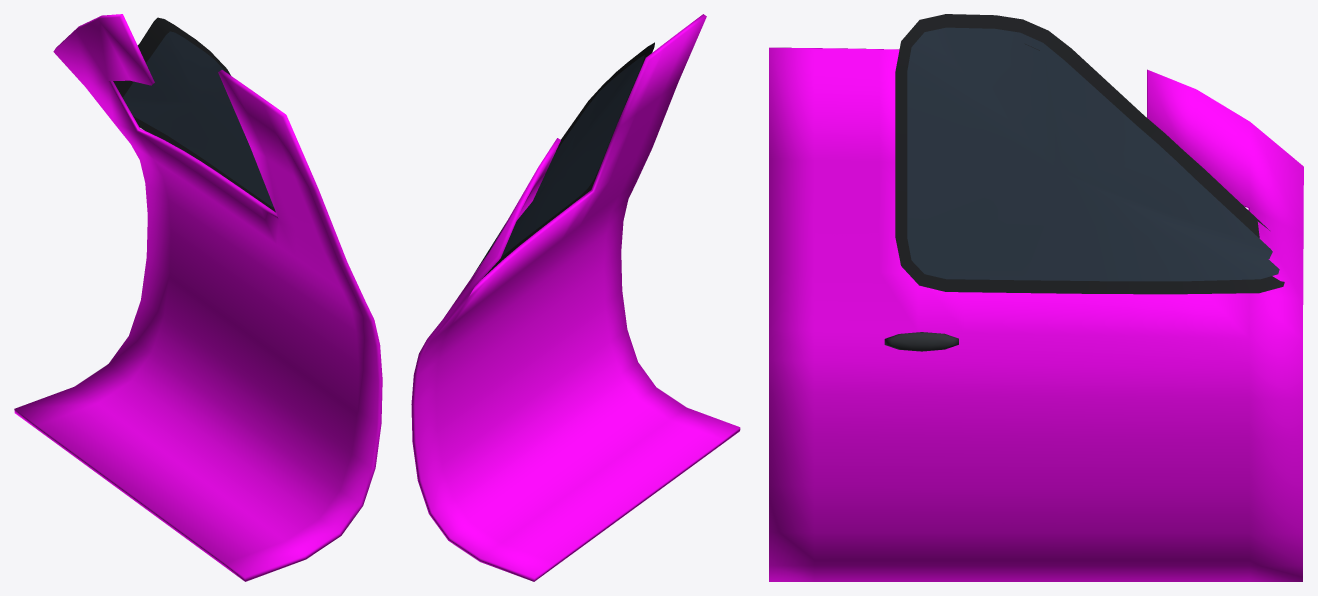
Rendered from car-door-suv.obj.
3 renders of one model, left to right at view 1: azimuth 30°, elevation 25°; view 2: azimuth 150°, elevation 25°; view 3: azimuth 270°, elevation 25°, orthographic. The views are drawn at different scales.
Parts seen in each view (by area): view 1: door, door_win_front.1.nocast, door_frame.win_front.1.nocast; view 2: door, door_win_front.1.nocast, door_frame.win_front.1.nocast; view 3: door, door_win_front.1.nocast, door_frame.win_front.1.nocast, door.handle.nocast.
Part boxes in pixels (x1,y1,x2,y2): door: (14,14,382,581); door_win_front.1.nocast: (123,31,273,207); door_frame.win_front.1.nocast: (113,17,275,212); door: (411,14,740,581); door_win_front.1.nocast: (473,55,644,274); door_frame.win_front.1.nocast: (482,42,654,278); door: (769,47,1303,581); door_win_front.1.nocast: (907,27,1279,281); door_frame.win_front.1.nocast: (895,14,1284,294); door.handle.nocast: (884,332,958,351).
Bounding box in the file's own units: 0.3772 × 1.25 × 1.09.
